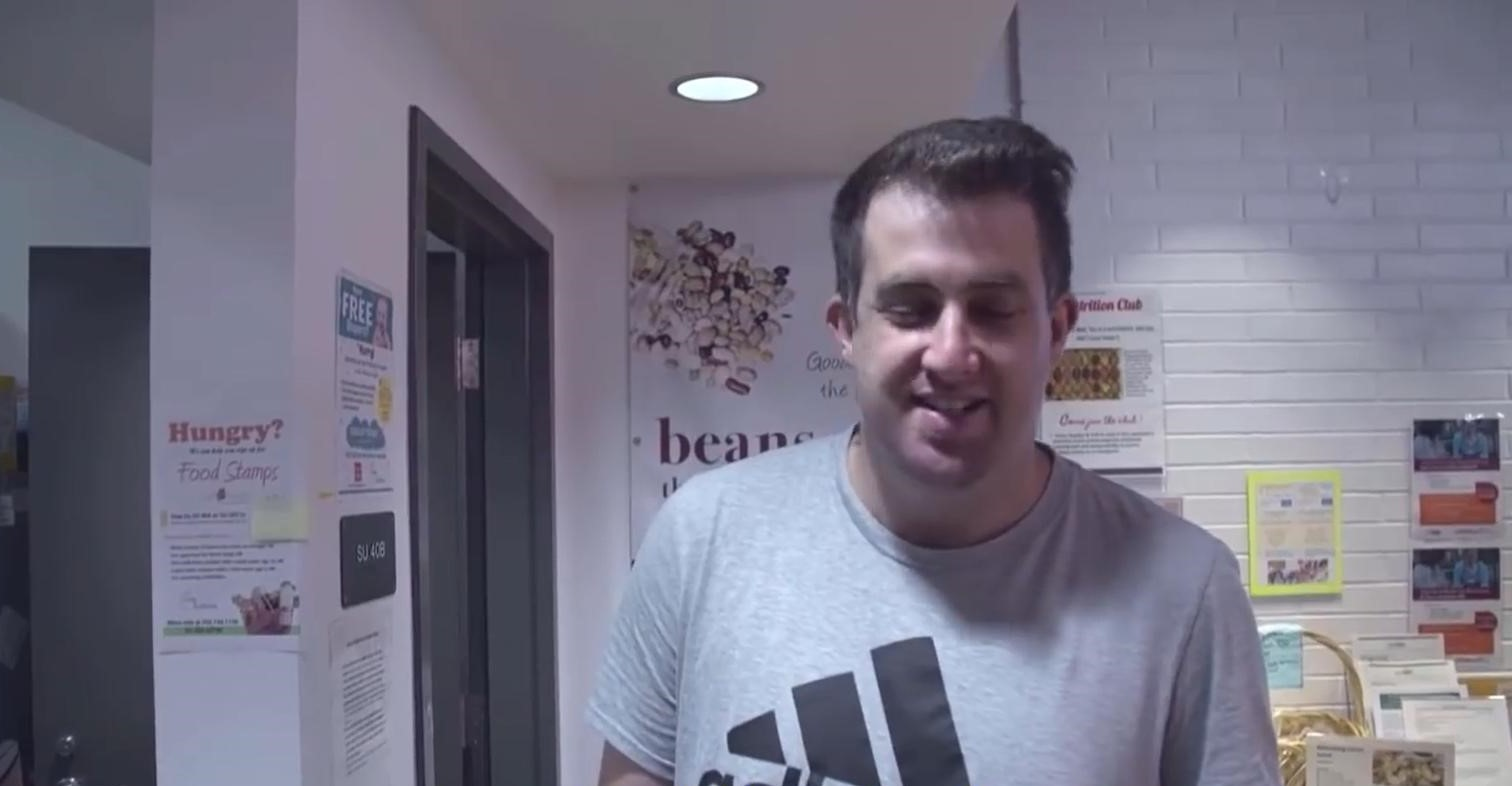without_mask: (879, 251, 1023, 459)
